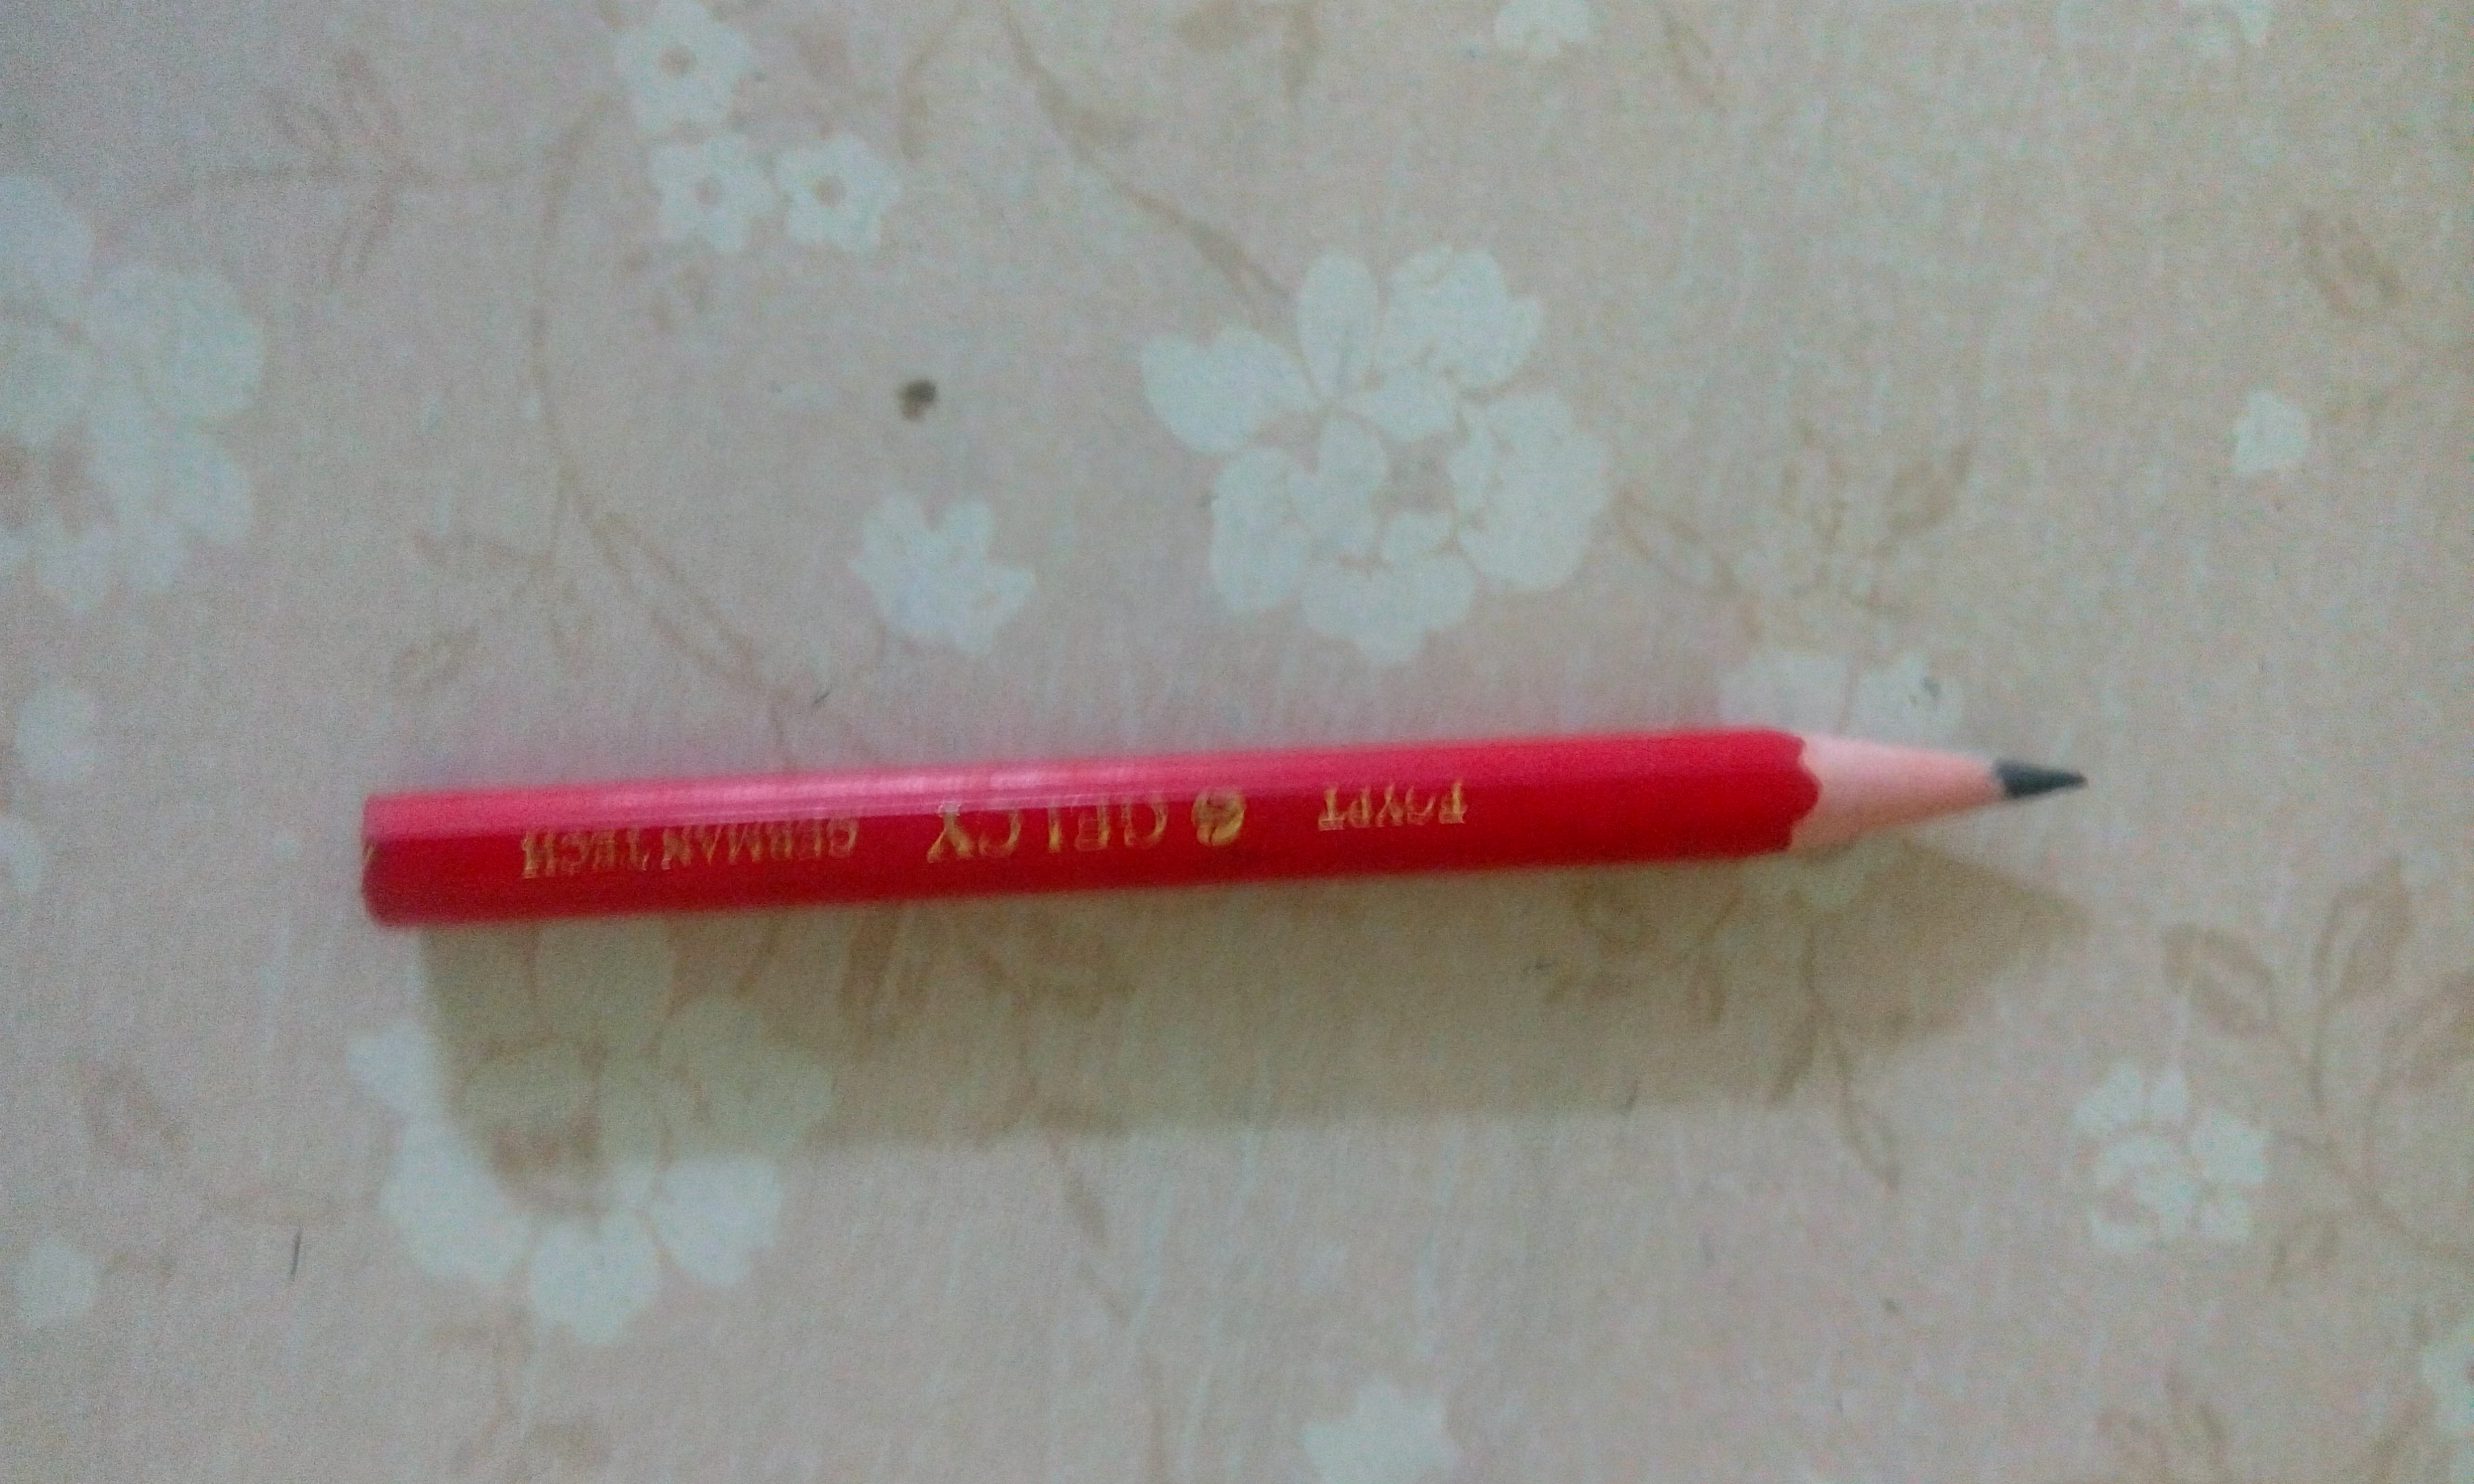pen_tip: (1682, 680, 2184, 901)
